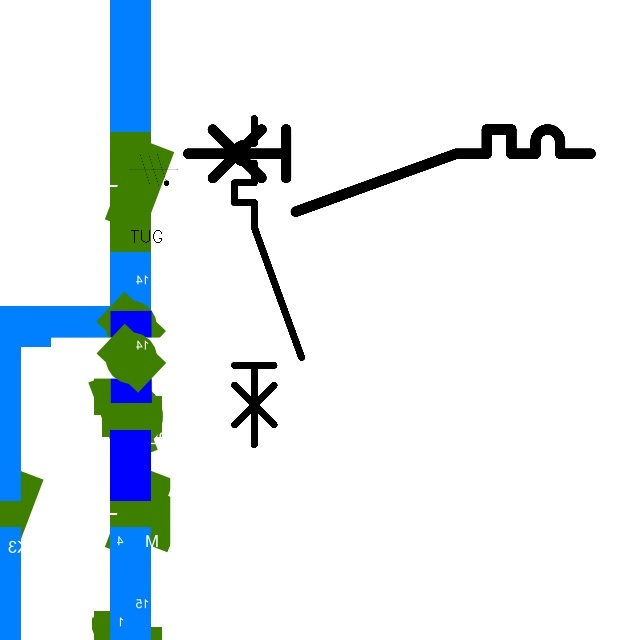interruptor_termomagnetico: (177, 119, 600, 222), (226, 110, 310, 453)
